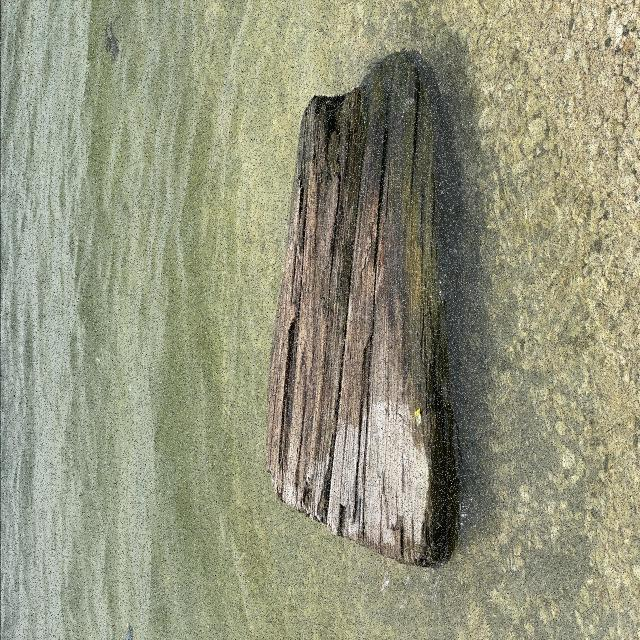wood_waste: (267, 49, 460, 571)
